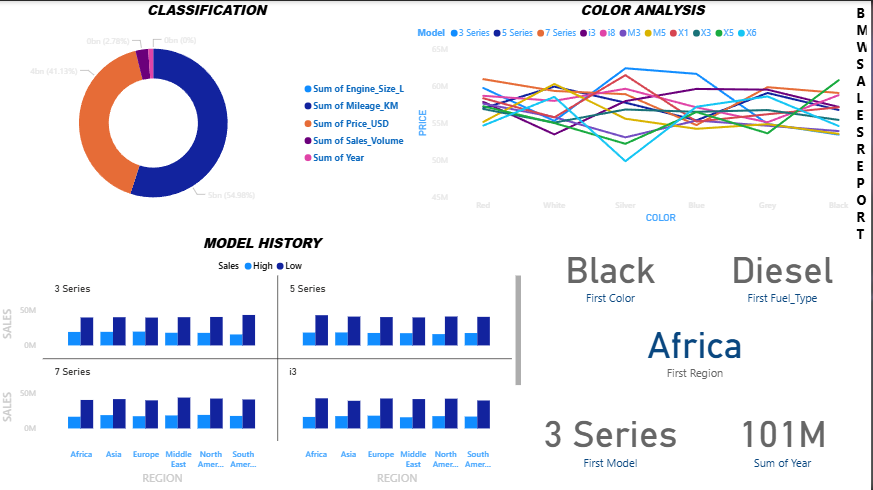

The page's visual inventory and layout, read from the dashboard file:
{"tool":"powerbi","page":{"name":"Page 1","canvas":[1280,720],"ordinal":0},"visuals":[{"type":"donutChart","title":"CLASSIFICATION","fields":{"Y":["Sum(BMW_Car_Sales_Classification.Engine_Size_L)","Sum(BMW_Car_Sales_Classification.Mileage_KM)","Sum(BMW_Car_Sales_Classification.Price_USD)","Sum(BMW_Car_Sales_Classification.Sales_Volume)","Sum(BMW_Car_Sales_Classification.Year)"]},"box":[0,0,609.5,331.6],"z":0},{"type":"lineChart","title":"COLOR ANALYSIS","fields":{"Category":["BMW_Car_Sales_Classification.Color"],"Series":["BMW_Car_Sales_Classification.Model"],"Y":["Sum(BMW_Car_Sales_Classification.Price_USD)"]},"box":[609.5,0,670.7,331.6],"z":1000},{"type":"clusteredColumnChart","title":"MODEL HISTORY","fields":{"Category":["BMW_Car_Sales_Classification.Region"],"Series":["BMW_Car_Sales_Classification.Sales_Classification"],"Rows":["BMW_Car_Sales_Classification.Model"],"Y":["Sum(BMW_Car_Sales_Classification.Price_USD)"]},"box":[0,342.1,772.3,377.9],"z":2000},{"type":"card","fields":{"Values":["Min(BMW_Car_Sales_Classification.Model)"]},"box":[772.3,561.7,251,158.3],"z":3000},{"type":"card","fields":{"Values":["Sum(BMW_Car_Sales_Classification.Year)"]},"box":[1023.2,561.7,256.9,158.3],"z":4000},{"type":"card","fields":{"Values":["Min(BMW_Car_Sales_Classification.Color)"]},"box":[772.3,342.1,251,112],"z":5000},{"type":"card","fields":{"Values":["Min(BMW_Car_Sales_Classification.Fuel_Type)"]},"box":[1023.2,342.1,256.9,112],"z":6000},{"type":"card","fields":{"Values":["Min(BMW_Car_Sales_Classification.Region)"]},"box":[800.7,455.6,443.7,106.1],"z":7000},{"type":"textbox","box":[1254.8,0,25.4,360],"z":8000}]}

Visuals, with their boxes in screenshot pixels (x1, y1, x2, y2), scaled from the page's 1280x720 canvas onto the 873x490 screenshot:
"CLASSIFICATION" donutChart: rect(0, 0, 416, 226)
"COLOR ANALYSIS" lineChart: rect(416, 0, 872, 226)
"MODEL HISTORY" clusteredColumnChart: rect(0, 233, 527, 489)
card - Min(BMW_Car_Sales_Classification.Model): rect(527, 382, 698, 489)
card - Sum(BMW_Car_Sales_Classification.Year): rect(698, 382, 872, 489)
card - Min(BMW_Car_Sales_Classification.Color): rect(527, 233, 698, 309)
card - Min(BMW_Car_Sales_Classification.Fuel_Type): rect(698, 233, 872, 309)
card - Min(BMW_Car_Sales_Classification.Region): rect(546, 310, 849, 382)
textbox: rect(856, 0, 872, 245)
